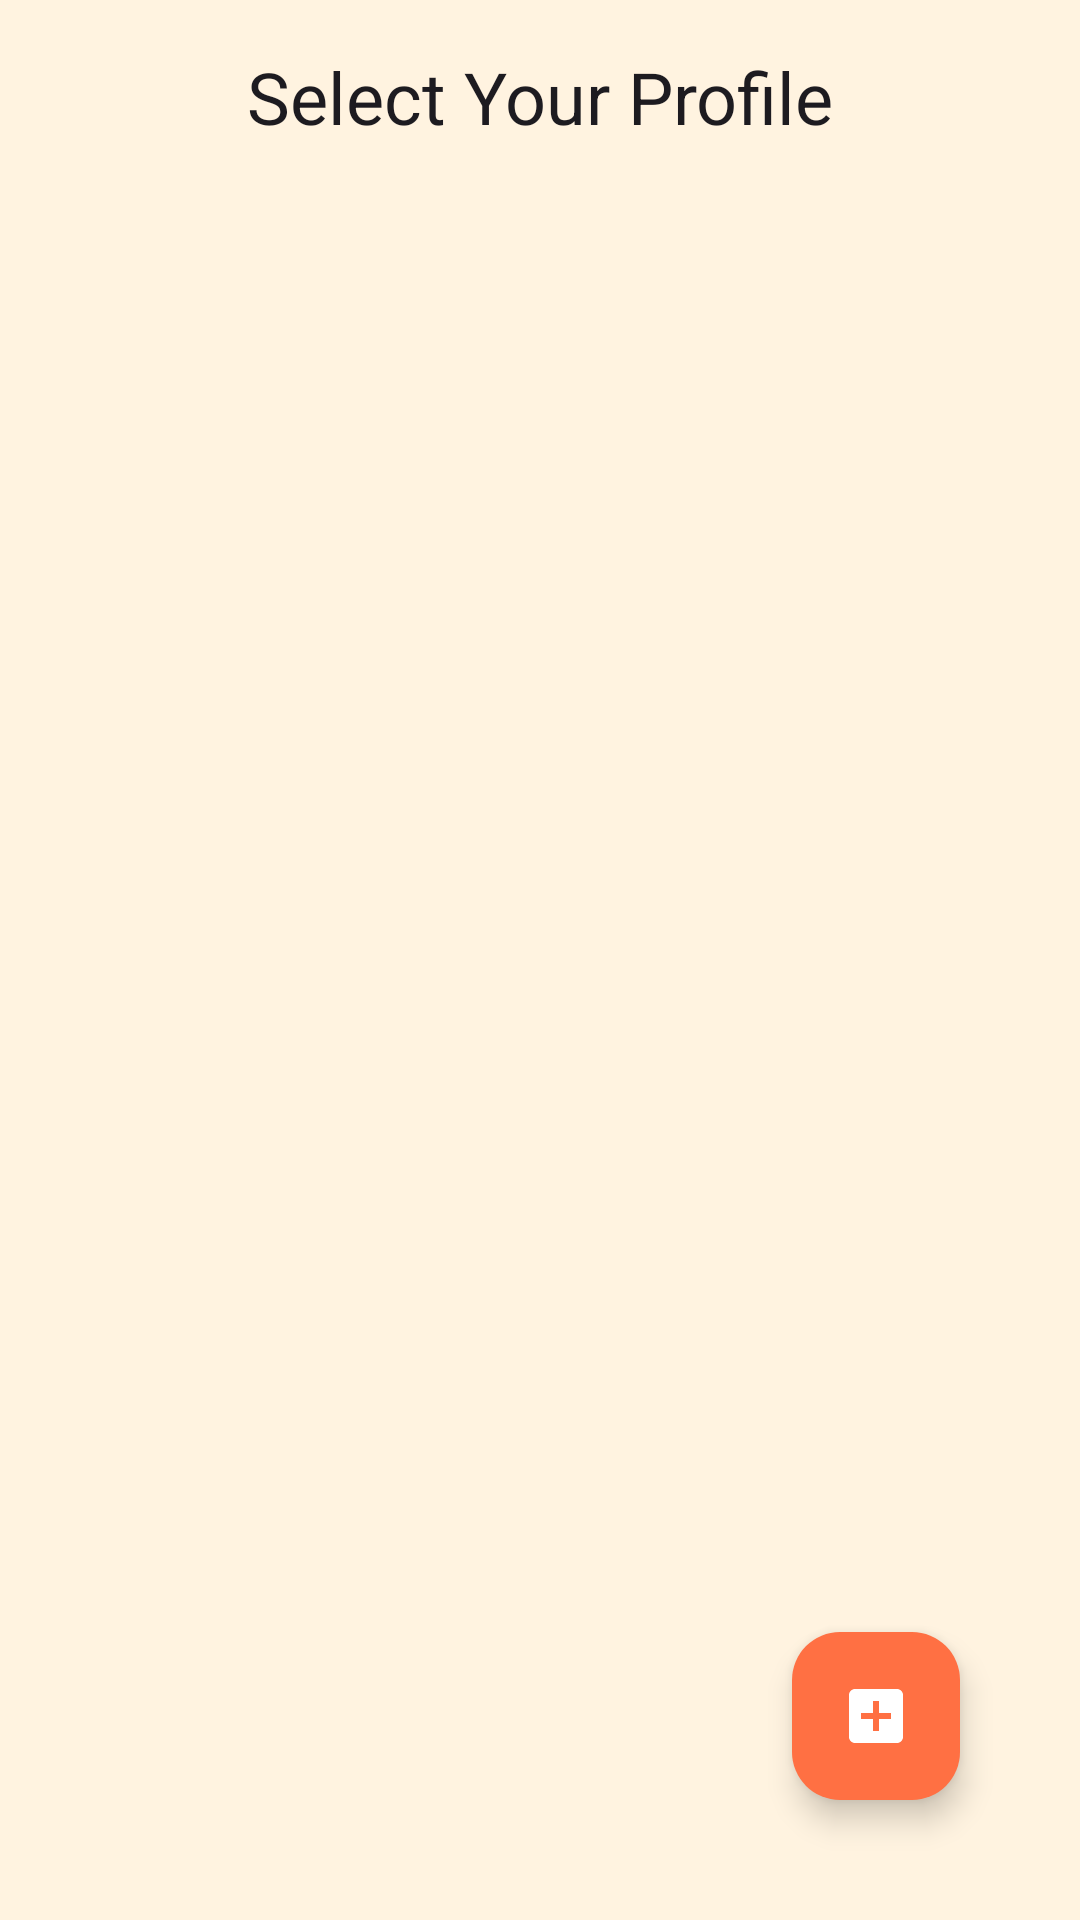

Screen size 1080×1920. Icon name, then its center in pixels as point (x, y):
Add New Profile: point (876, 1716)
